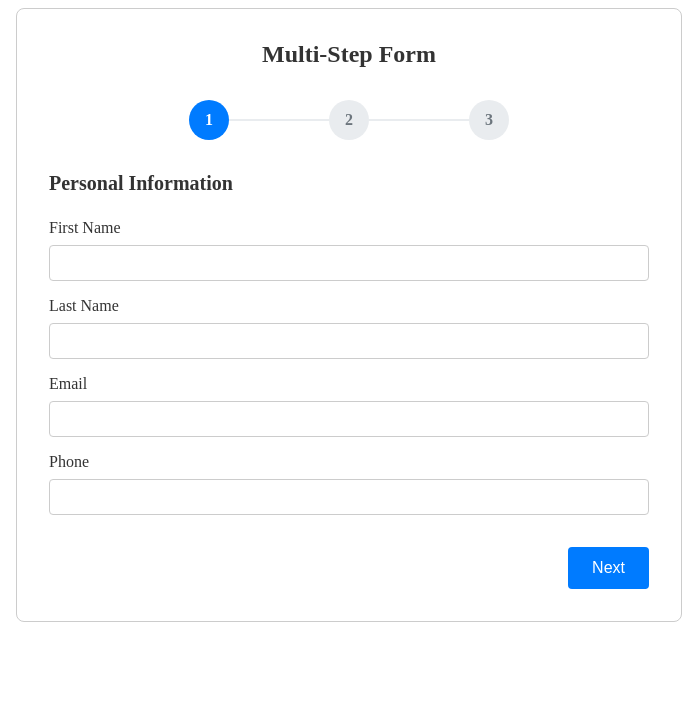
Test: MultiStepForm Component › Step 1 - Personal Information › should clear error when user starts typing in field
The image size is (699, 719).
Click the button with test id "form-next" at (609, 568), box [568,547,649,589]
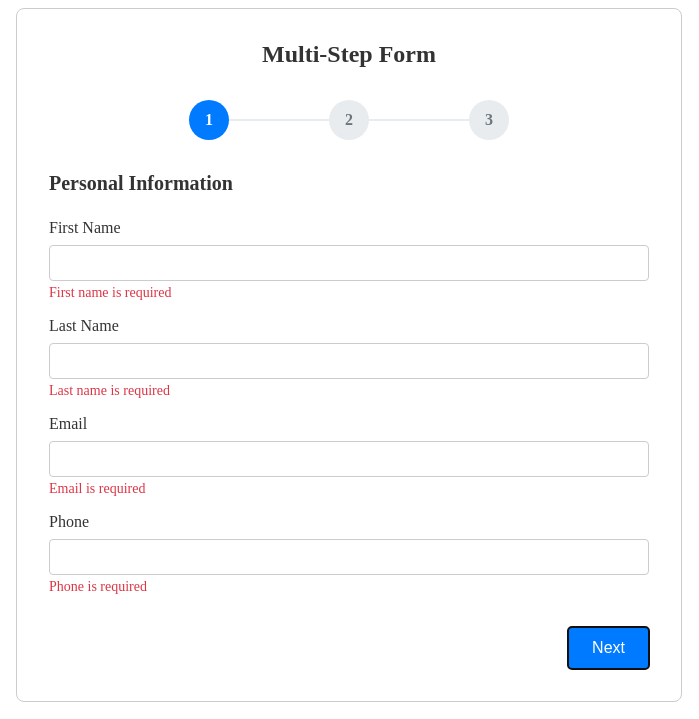
Now the text "First name is required" is shown, box [49,285,172,300]
Type "John" into the field with test id "input-firstName" at (349, 263), box [49,245,649,281]
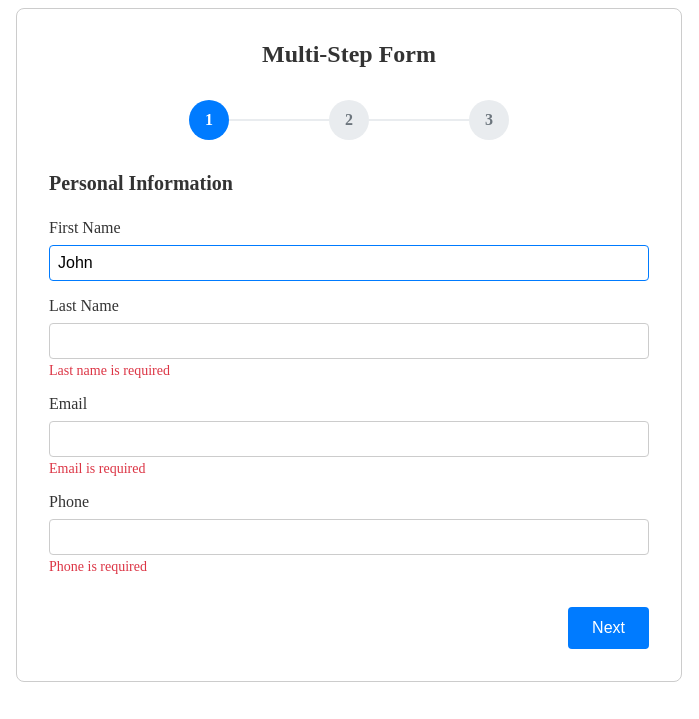
Now the text with test id "error-firstName" is gone
